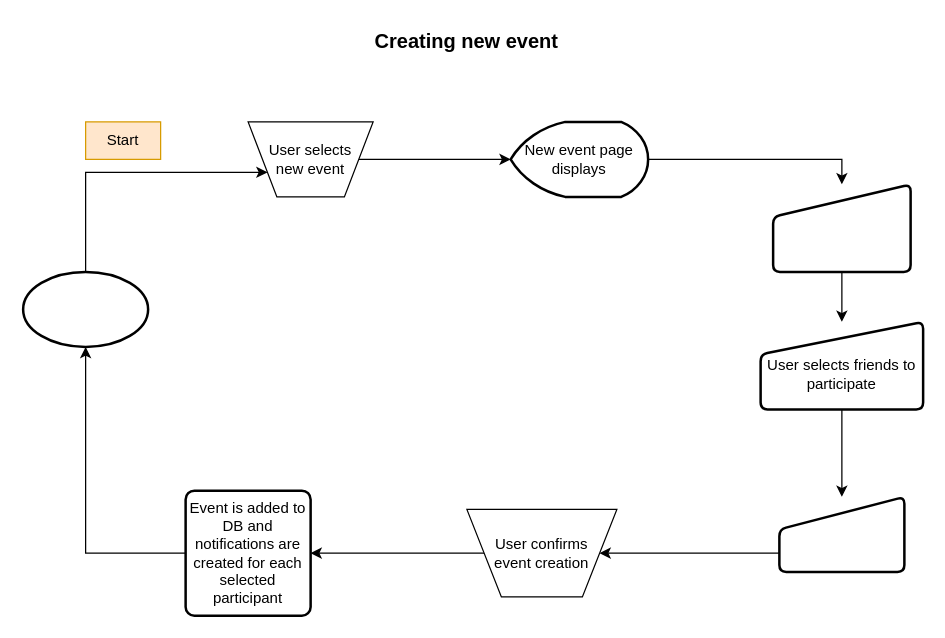
The diagram is 945 pixels wide and 638 high, and some of its shapes have lost their labels. Here are the shapes that lost their labels. From the top down, the centre of each, then its label:
At point (841, 227): "User enters event timing".
At point (85, 309): "Home page displays".
At point (841, 533): "User selects game/s to play".
